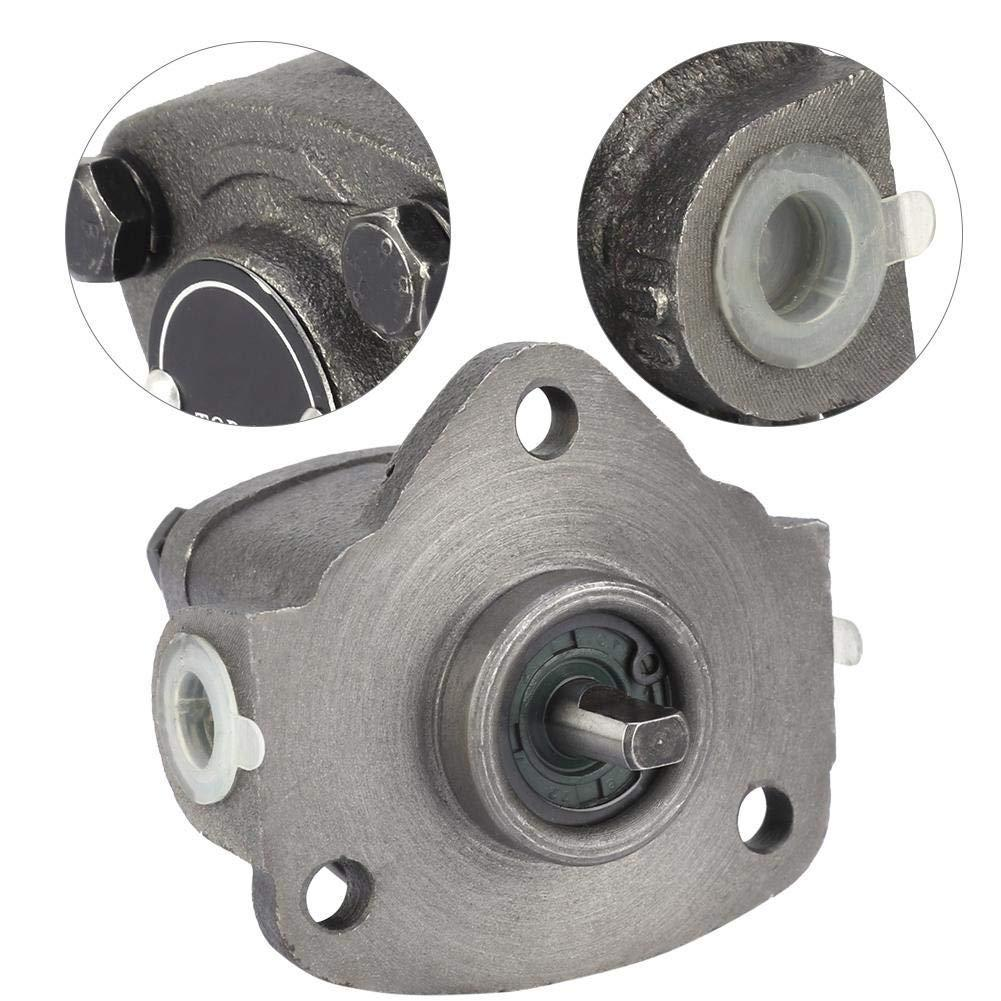hole: (298, 852, 380, 937), (511, 380, 584, 464), (732, 777, 798, 863)
